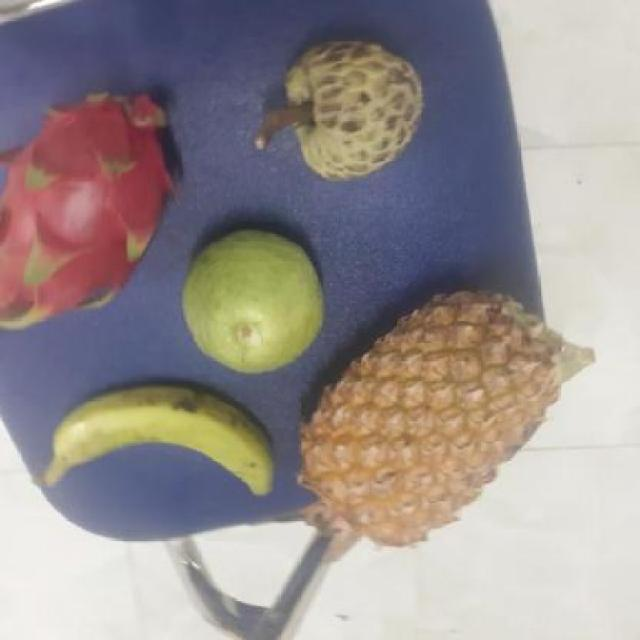banana: (48, 378, 287, 530)
dragon fruit: (1, 86, 184, 317)
guava: (181, 226, 330, 374)
pineapple: (304, 286, 568, 540)
sugar apple: (272, 38, 433, 178)
